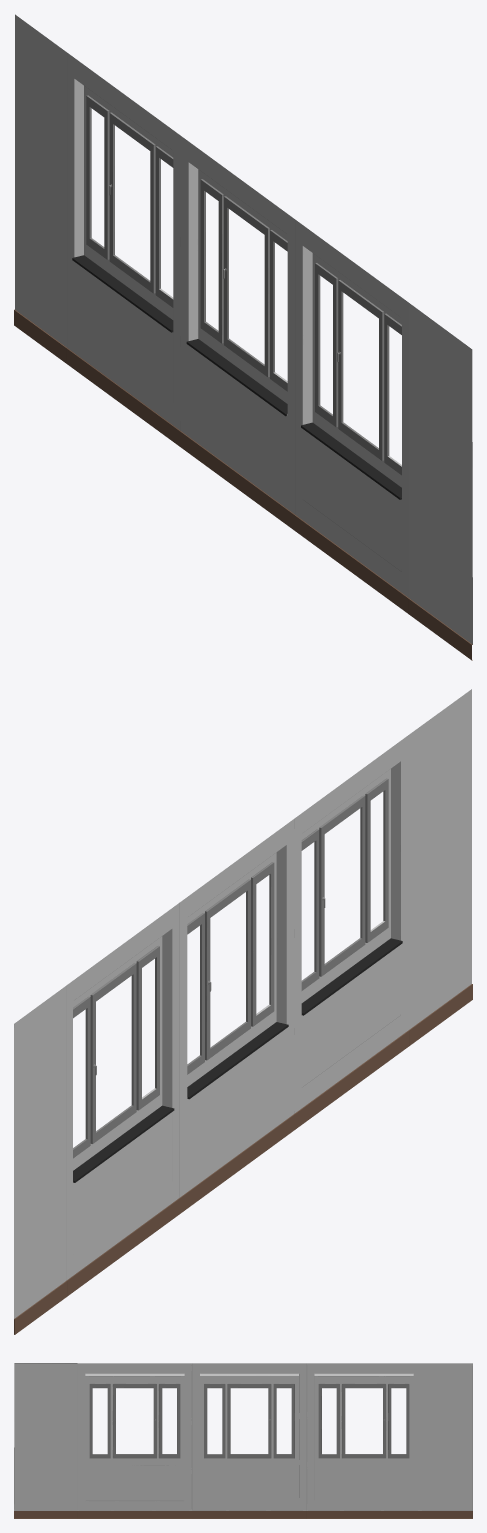
Rendered from WindowWalls.fbx.
3 views of the same model, one above another, from view 1: azimuth 30°, elevation 25°; view 2: azimuth 150°, elevation 25°; view 3: azimuth 270°, elevation 25° (orthographic). The views are drawn at different scales.
Visible parts, largest first — view 1: Cylinder.025; view 2: Cylinder.025; view 3: Cylinder.025.
Boxes of the visible parts, x1,y1,x2,y2 form: Cylinder.025: (14,14,472,660); Cylinder.025: (14,689,472,1334); Cylinder.025: (14,1363,472,1518).
Size of the model in its own units: 8.01 by 0.12 by 3.
Materials: 1 (1 with a texture image).
